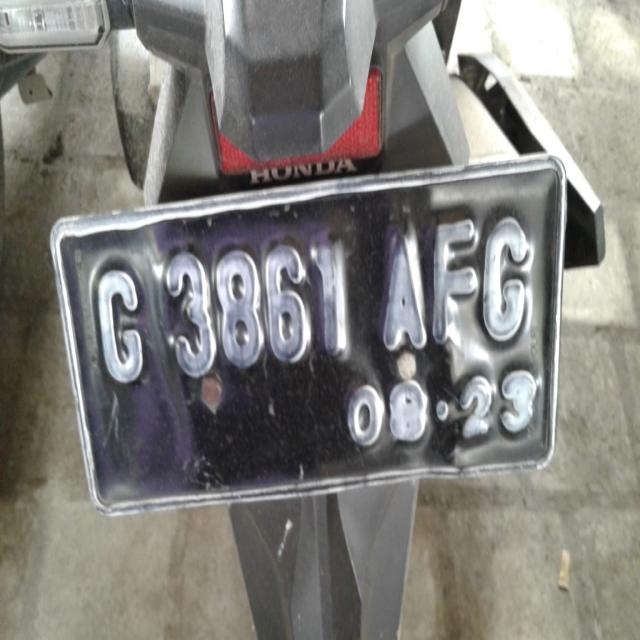plate: (52, 156, 560, 519)
